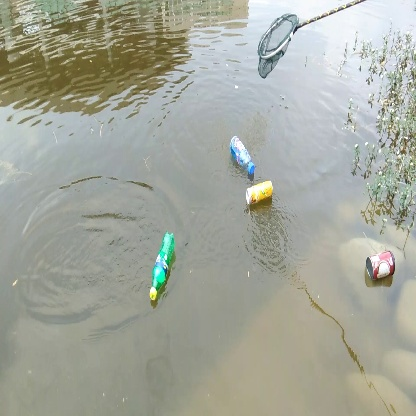bottle: (148, 231, 179, 303), (227, 131, 257, 175), (363, 248, 398, 283), (243, 179, 276, 207)
